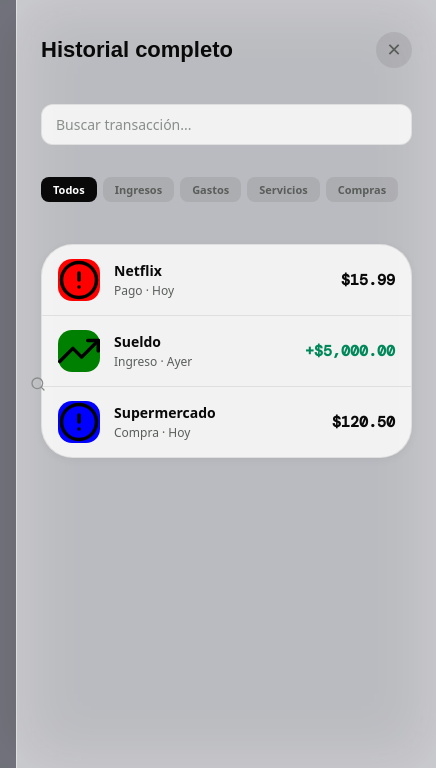
Test: ActivityPanel › filters activities by search term
Type "Net" into the field with placeholder "Buscar transacción...".
click(226, 124); type("Net")  # box x1=56 y1=115 x2=397 y2=134
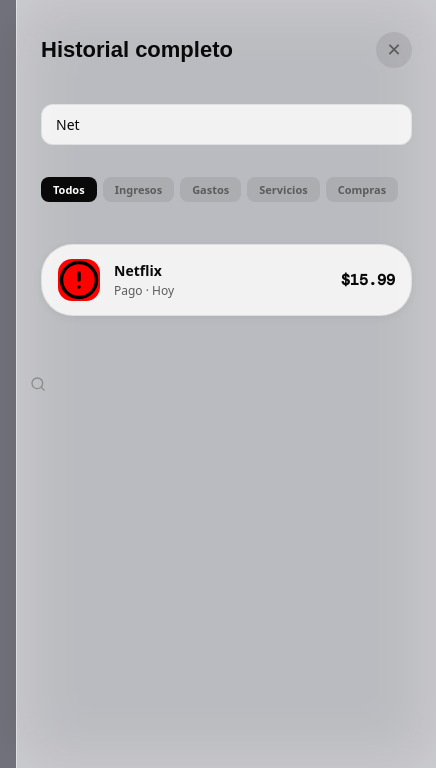
Expected: the text "Netflix" is shown, x1=114 y1=261 x2=162 y2=280
Now the text "Sueldo" is gone
